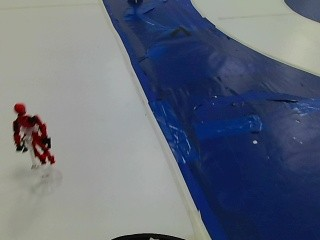pedestrian: (10, 100, 58, 163)
